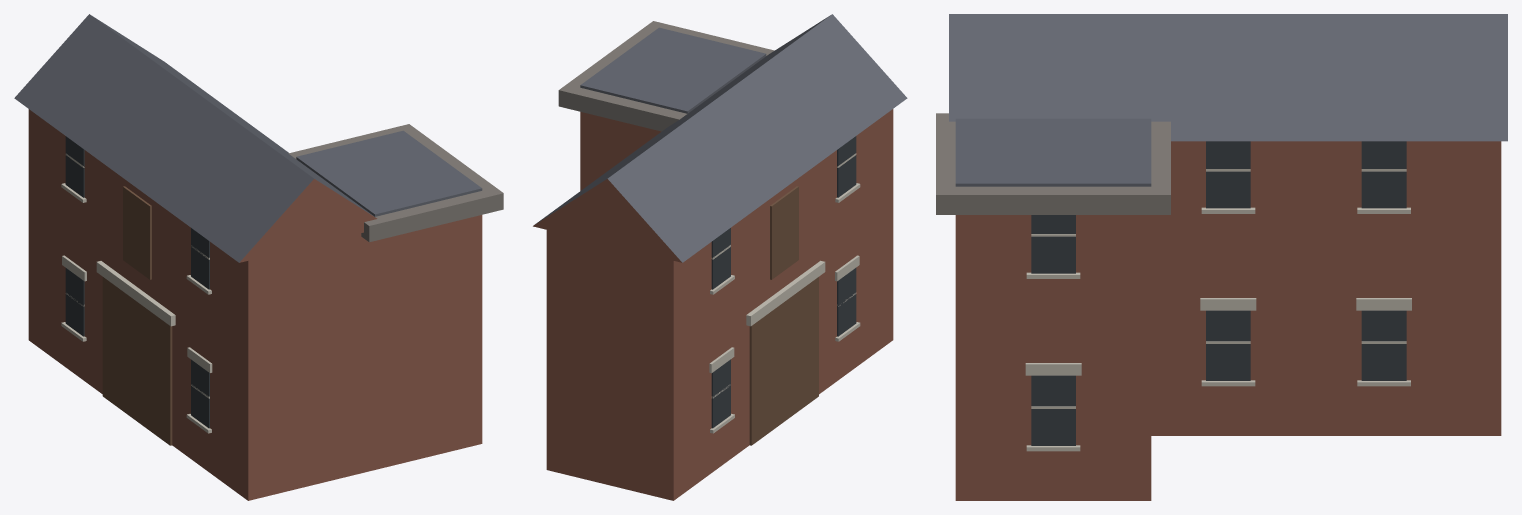
File: house_1909_indiana_shed__draft_1904.glb
3 renders of one model, left to right at view 1: azimuth 30°, elevation 25°; view 2: azimuth 150°, elevation 25°; view 3: azimuth 270°, elevation 25°, orthographic. The views are drawn at different scales.
Parts seen in each view (by area): view 1: house_1909_indiana_shed__draft_1904; view 2: house_1909_indiana_shed__draft_1904; view 3: house_1909_indiana_shed__draft_1904.
Boxes of the visible parts, x1,y1,x2,y2 form: house_1909_indiana_shed__draft_1904: (14,14,503,500); house_1909_indiana_shed__draft_1904: (533,14,907,500); house_1909_indiana_shed__draft_1904: (936,14,1507,500).
Size of the model in its own units: 6.65 by 7.56 by 10.22.
